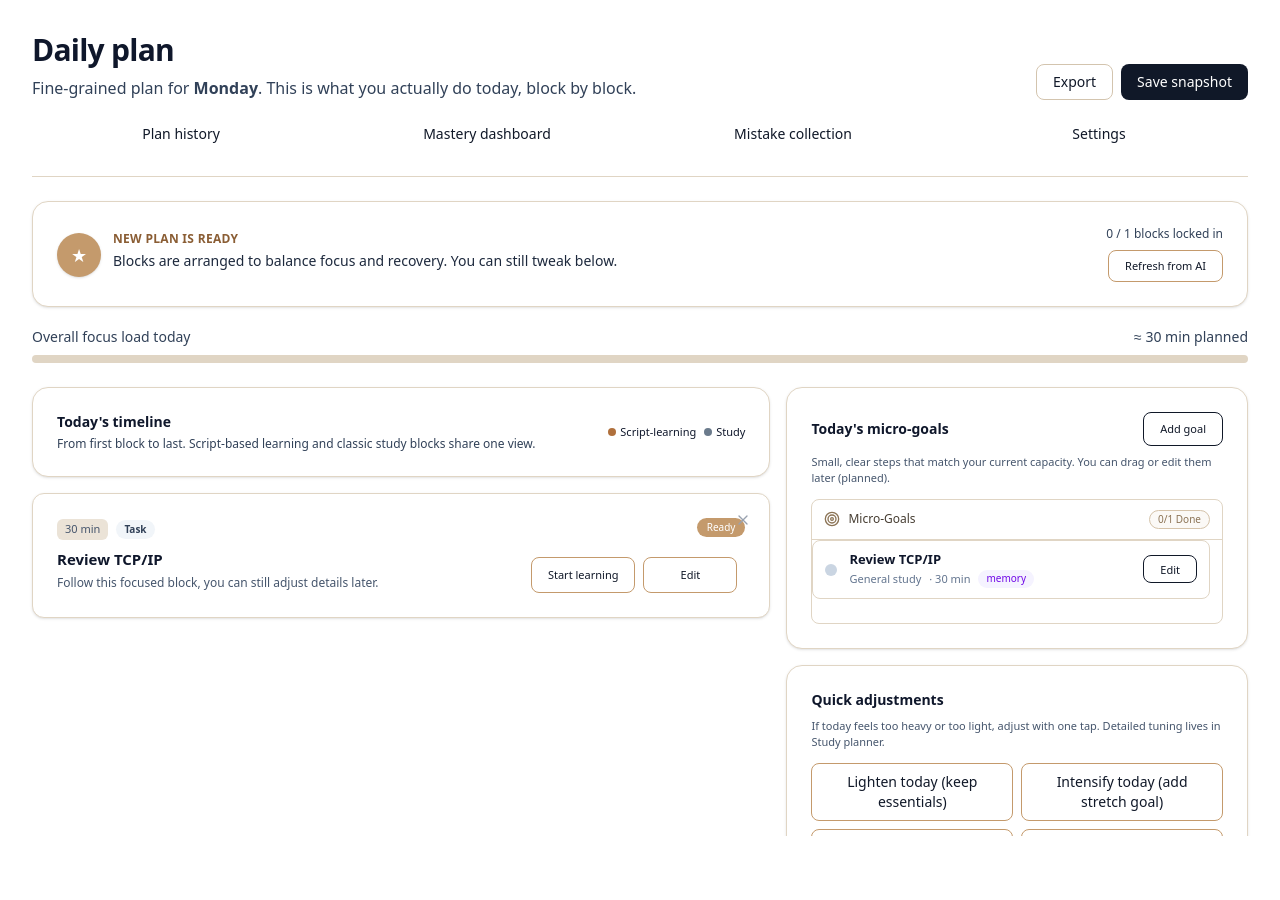
Scenario: DailyPlanPage › shows validation error when adding a task with empty title
The width and height of the screenshot is (1280, 900).
What coordinates should you click on to do the following:
click the button "Add goal"
I would click on:
 (1183, 429)
Its box is [1143,412,1223,446].
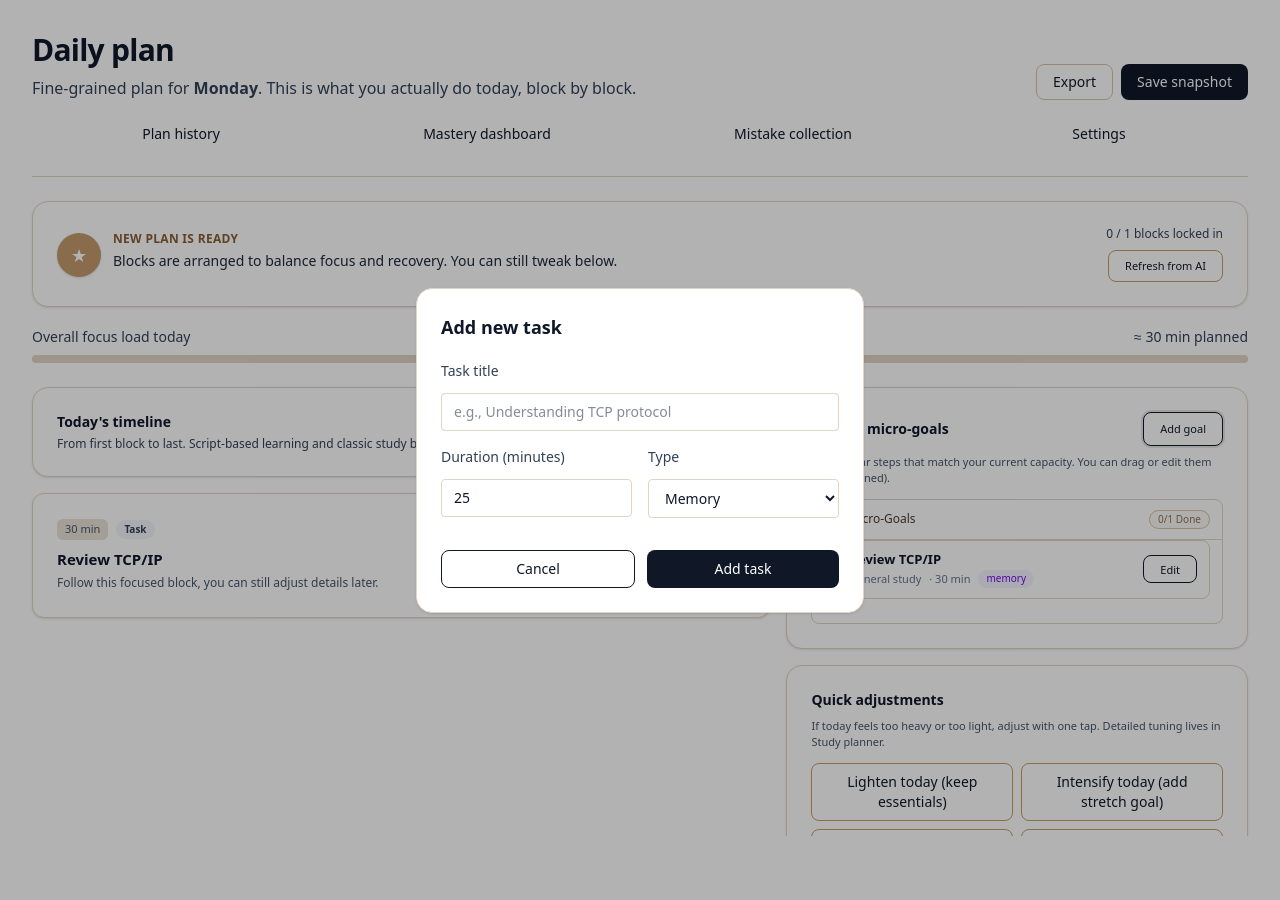
What coordinates should you click on to do the following:
click the button "Add task"
I would click on:
 (743, 568)
Its box is [647,550,839,588].
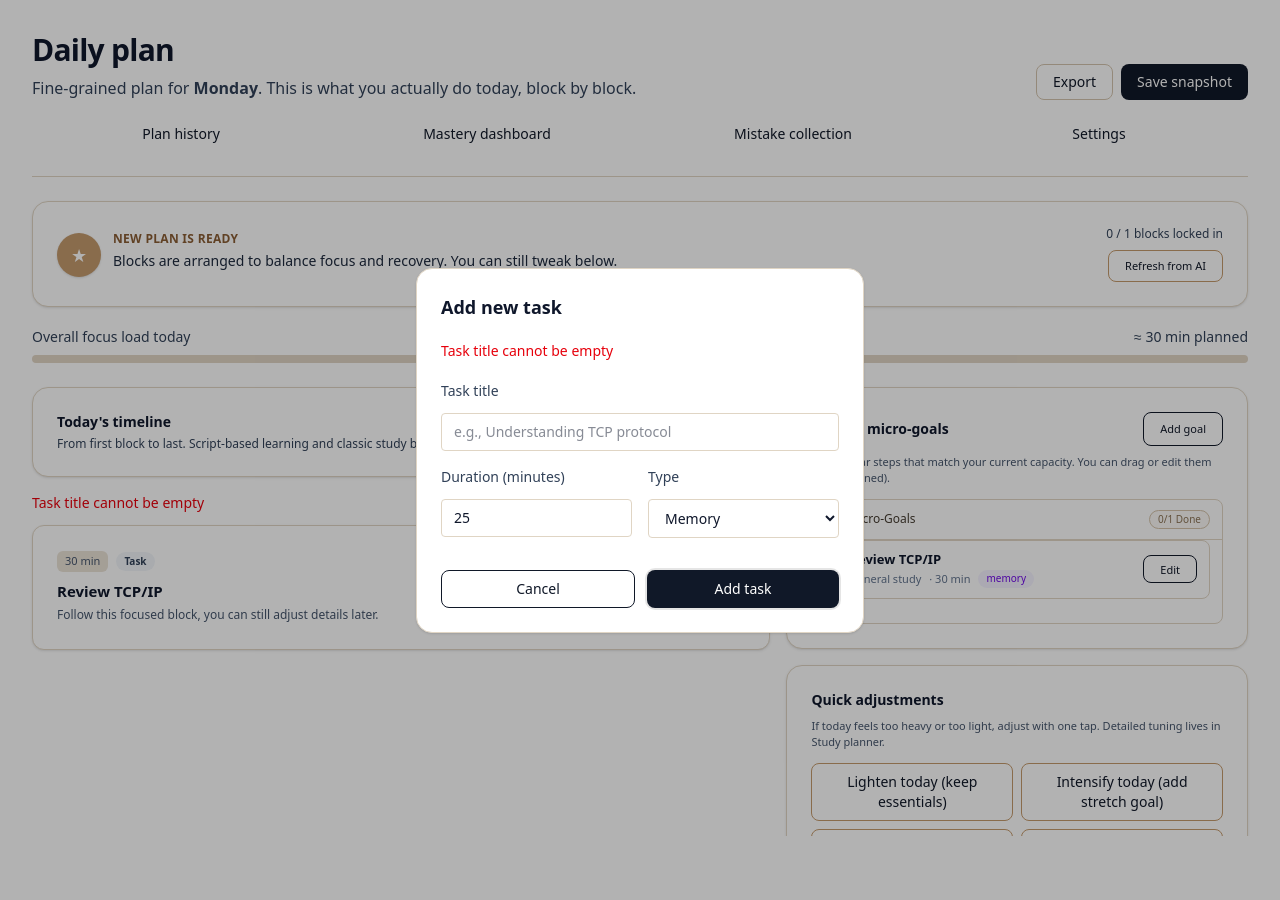
Now the text "Task title cannot be empty" below "Script-learning" is shown, box [32,493,204,512]
